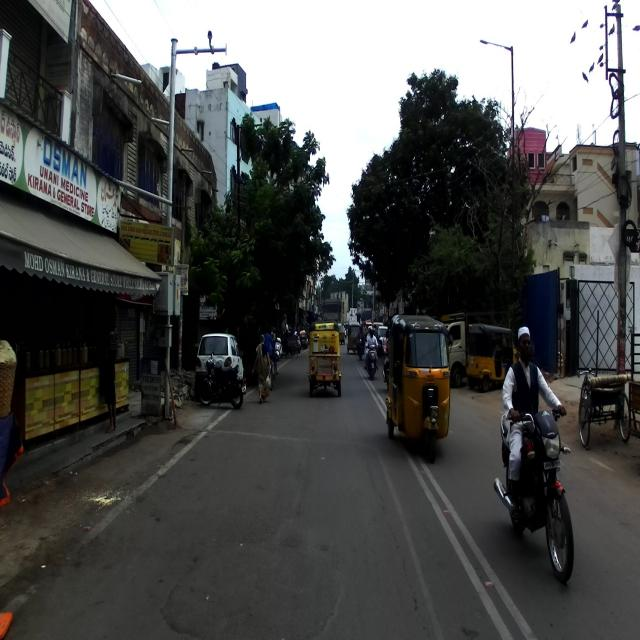autorickshaw: (385, 313, 454, 463), (467, 322, 517, 388)
motorcycle_Honda: (493, 406, 575, 584)
motorcycle_RoyalEnfield: (197, 346, 246, 410)
scooter: (365, 334, 380, 381)
